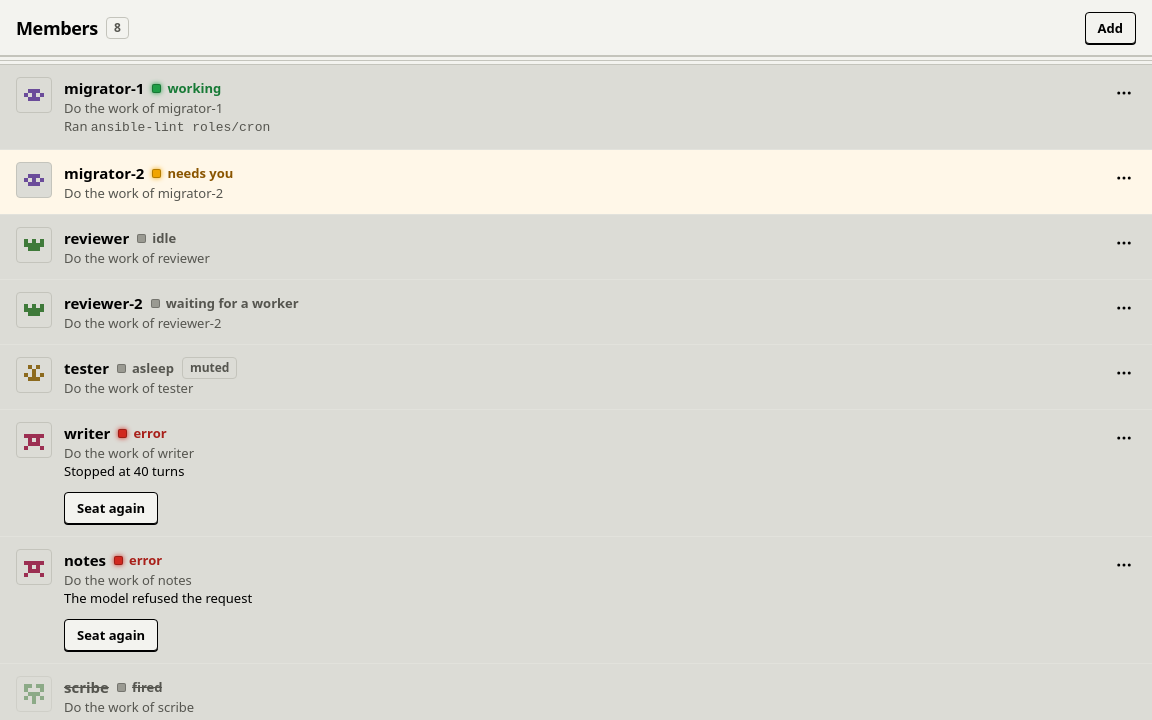
it: the picker of Add › groups the agents by this bridge and everyone else, with their free workers
This screenshot has width=1152, height=720.
Click the button "Add" at (1110, 28), box [1085,12,1136,44]
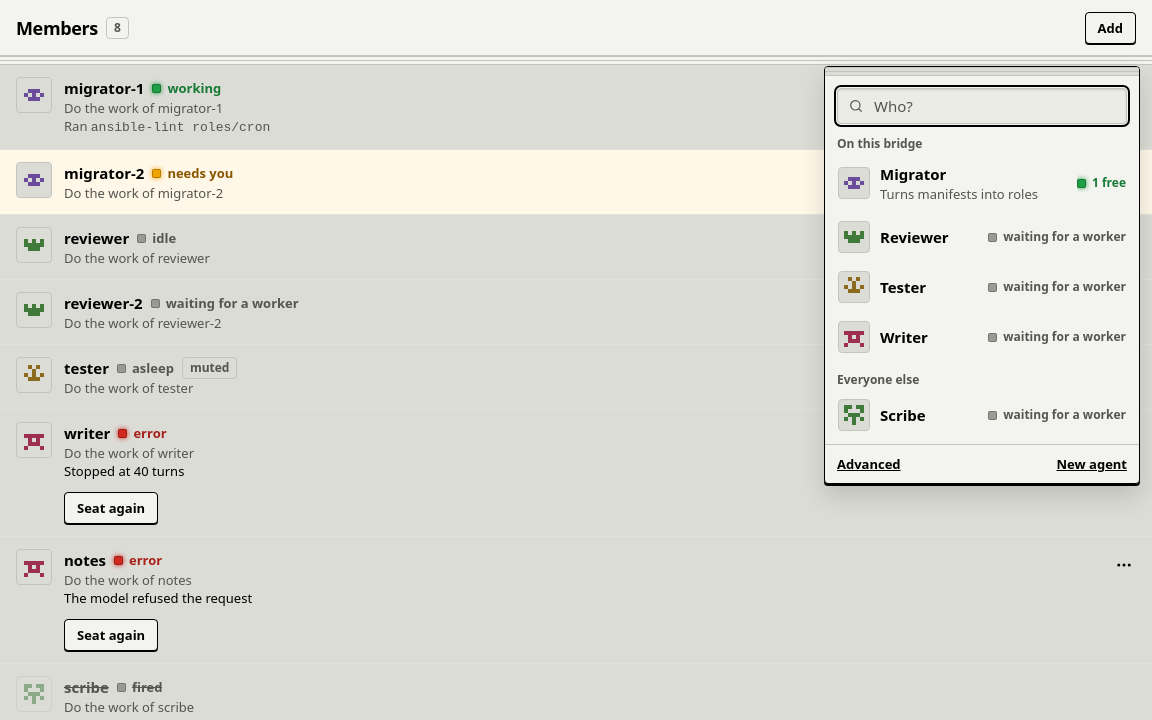
Expected: the 2nd element with class "led-green" is shown, [1077,178,1086,188]
Expected: the link with id "new-agent" reads "New agent", [1056,453,1127,475]
